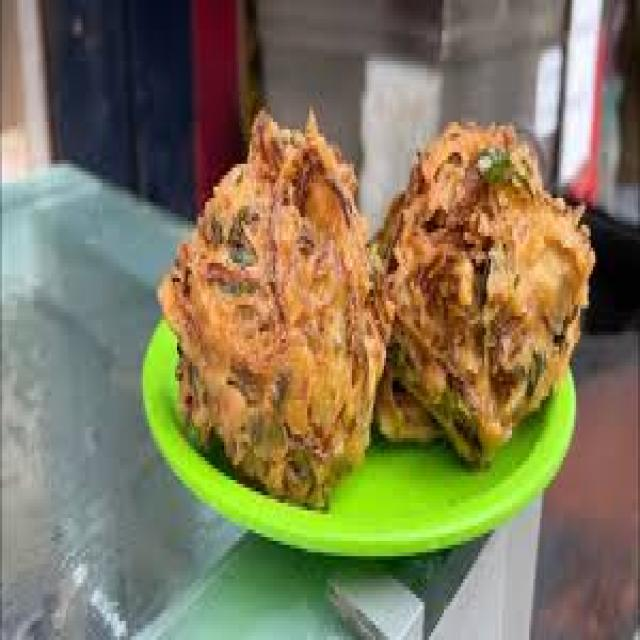BAJI: (161, 119, 396, 490), (373, 127, 594, 461)
